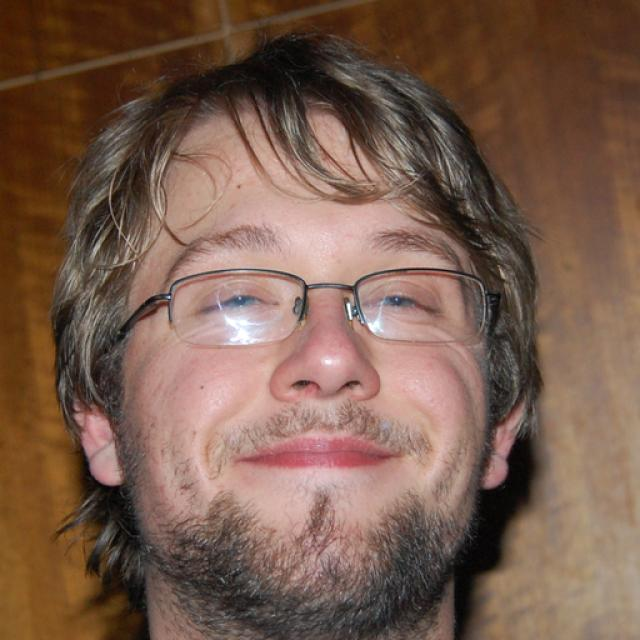happy: (126, 149, 486, 609)
